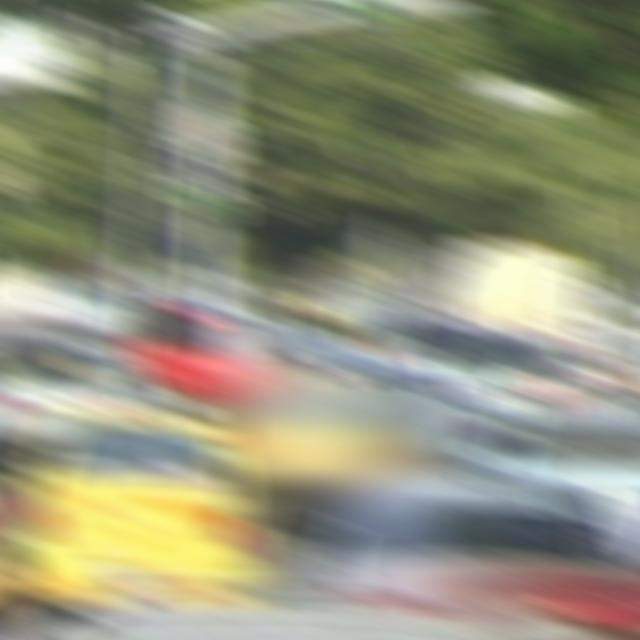Fire: (228, 381, 436, 523)
Taxi: (9, 410, 281, 605)
